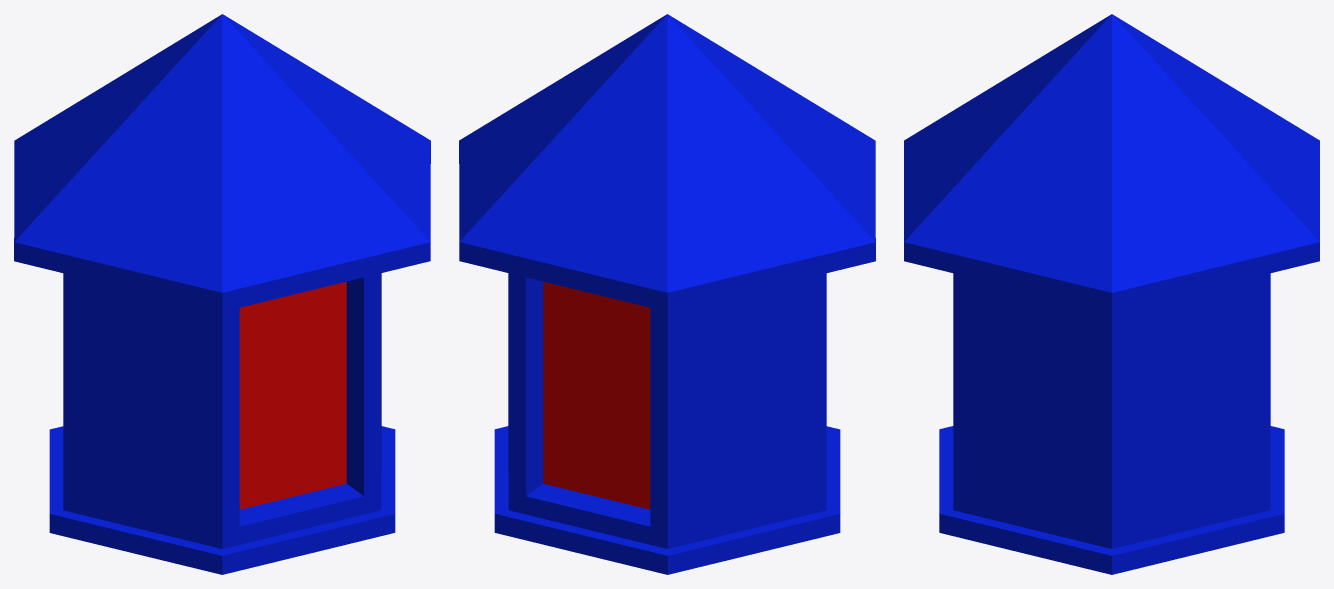
File: lantern.fbx
3 views of the same model, side by side, from view 1: azimuth 30°, elevation 25°; view 2: azimuth 150°, elevation 25°; view 3: azimuth 270°, elevation 25° (orthographic).
Parts seen in each view (by area): view 1: polySurface1499; view 2: polySurface1499; view 3: polySurface1499.
Part boxes in pixels (x1=…): polySurface1499: x1=14, y1=14, x2=430, y2=574; polySurface1499: x1=459, y1=14, x2=875, y2=574; polySurface1499: x1=904, y1=14, x2=1319, y2=574.
Bounding box in the file's own units: 6.46 × 8.11 × 5.59.
